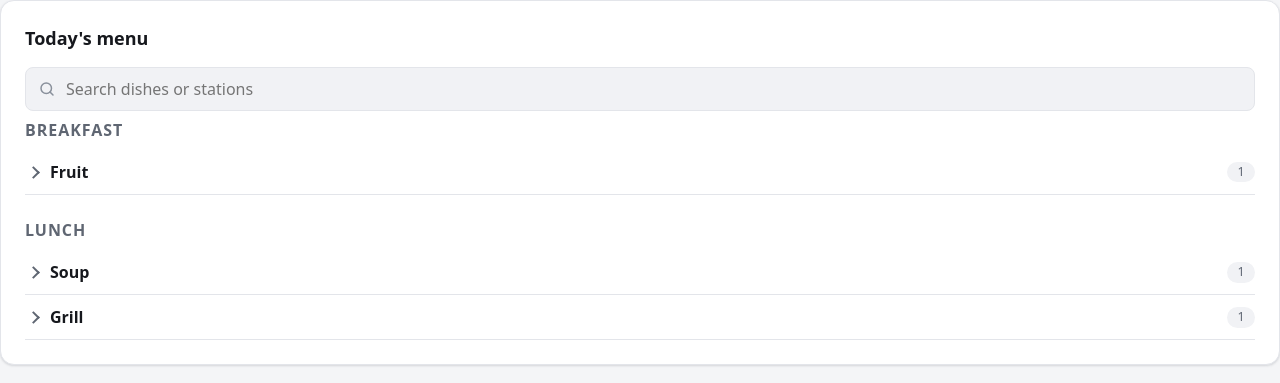
MenuView › finds dishes by station name too
Type "grill" into the search field labelled "Search dishes".
click(640, 89); type("grill")  # box x1=25 y1=67 x2=1255 y2=111
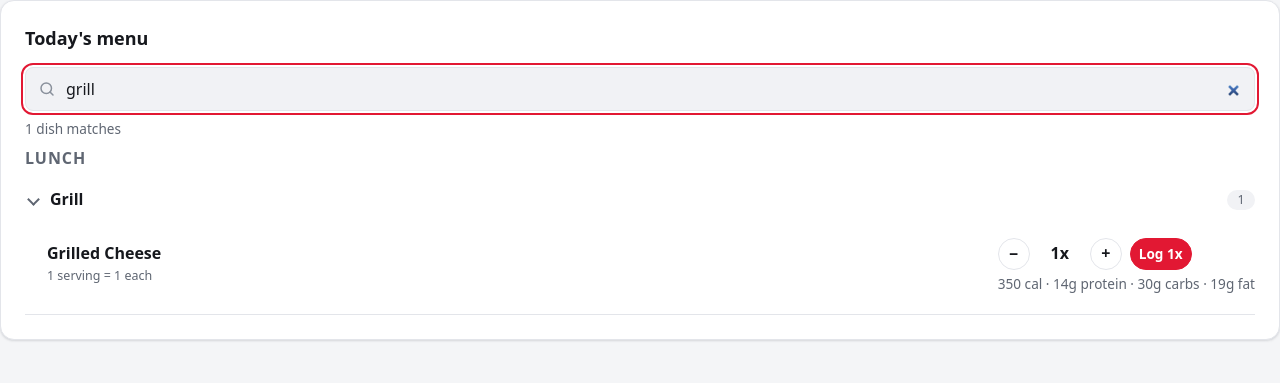
Now the text "Grilled Cheese" is shown, box x1=47 y1=242 x2=161 y2=265
